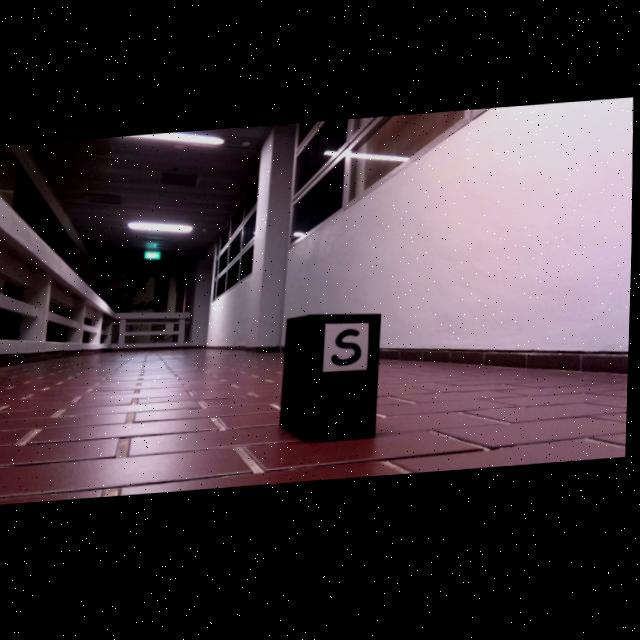S: (333, 333, 363, 370)
